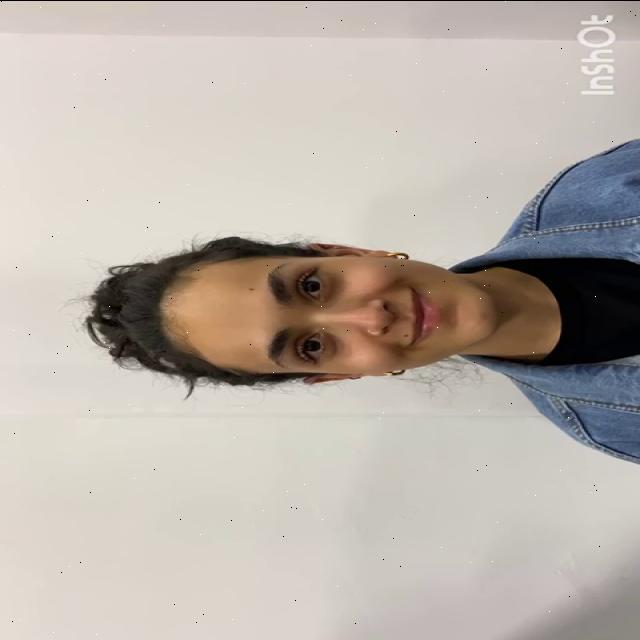happy: (136, 245, 490, 382)
